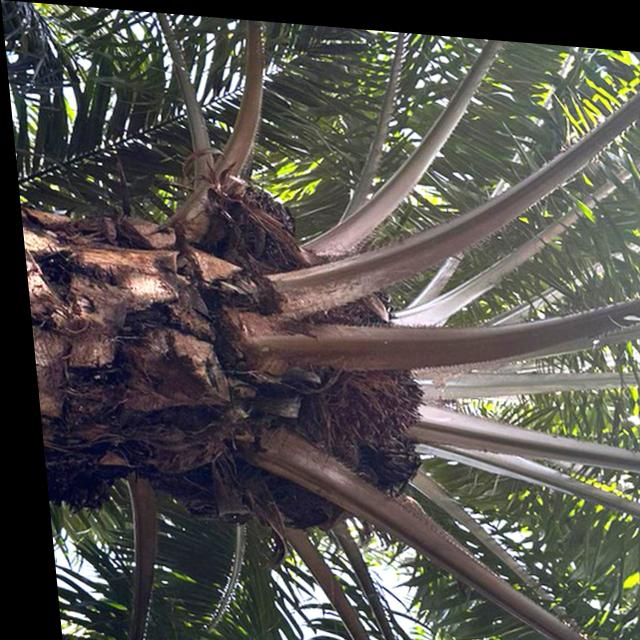ripe: (288, 337, 430, 477)
